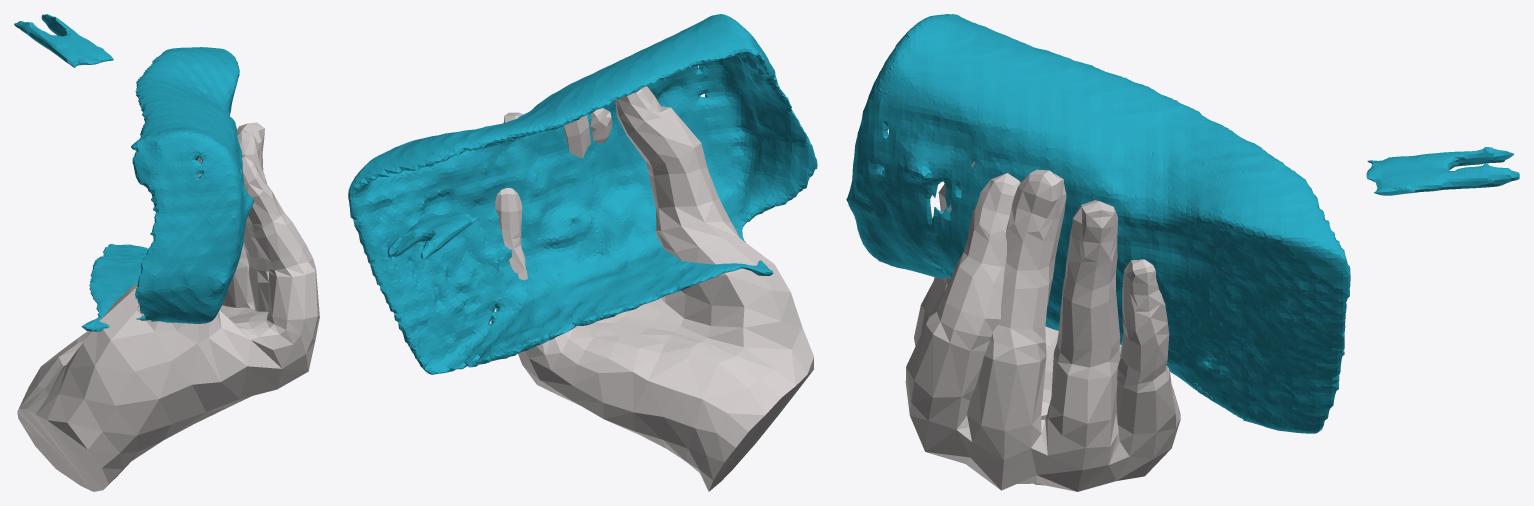
The picture shows the model from 3 angles, left to right: view 1: azimuth 30°, elevation 25°; view 2: azimuth 150°, elevation 25°; view 3: azimuth 270°, elevation 25°; orthographic projection. The views are drawn at different scales.
Parts seen in each view (by area): view 1: world; view 2: world; view 3: world.
Part boxes in pixels (x1,y1,x2,y2): world: (14,14,319,491); world: (348,14,817,491); world: (846,14,1519,491).
Size of the model in its own units: 0.1308 by 0.1591 by 0.1959.
